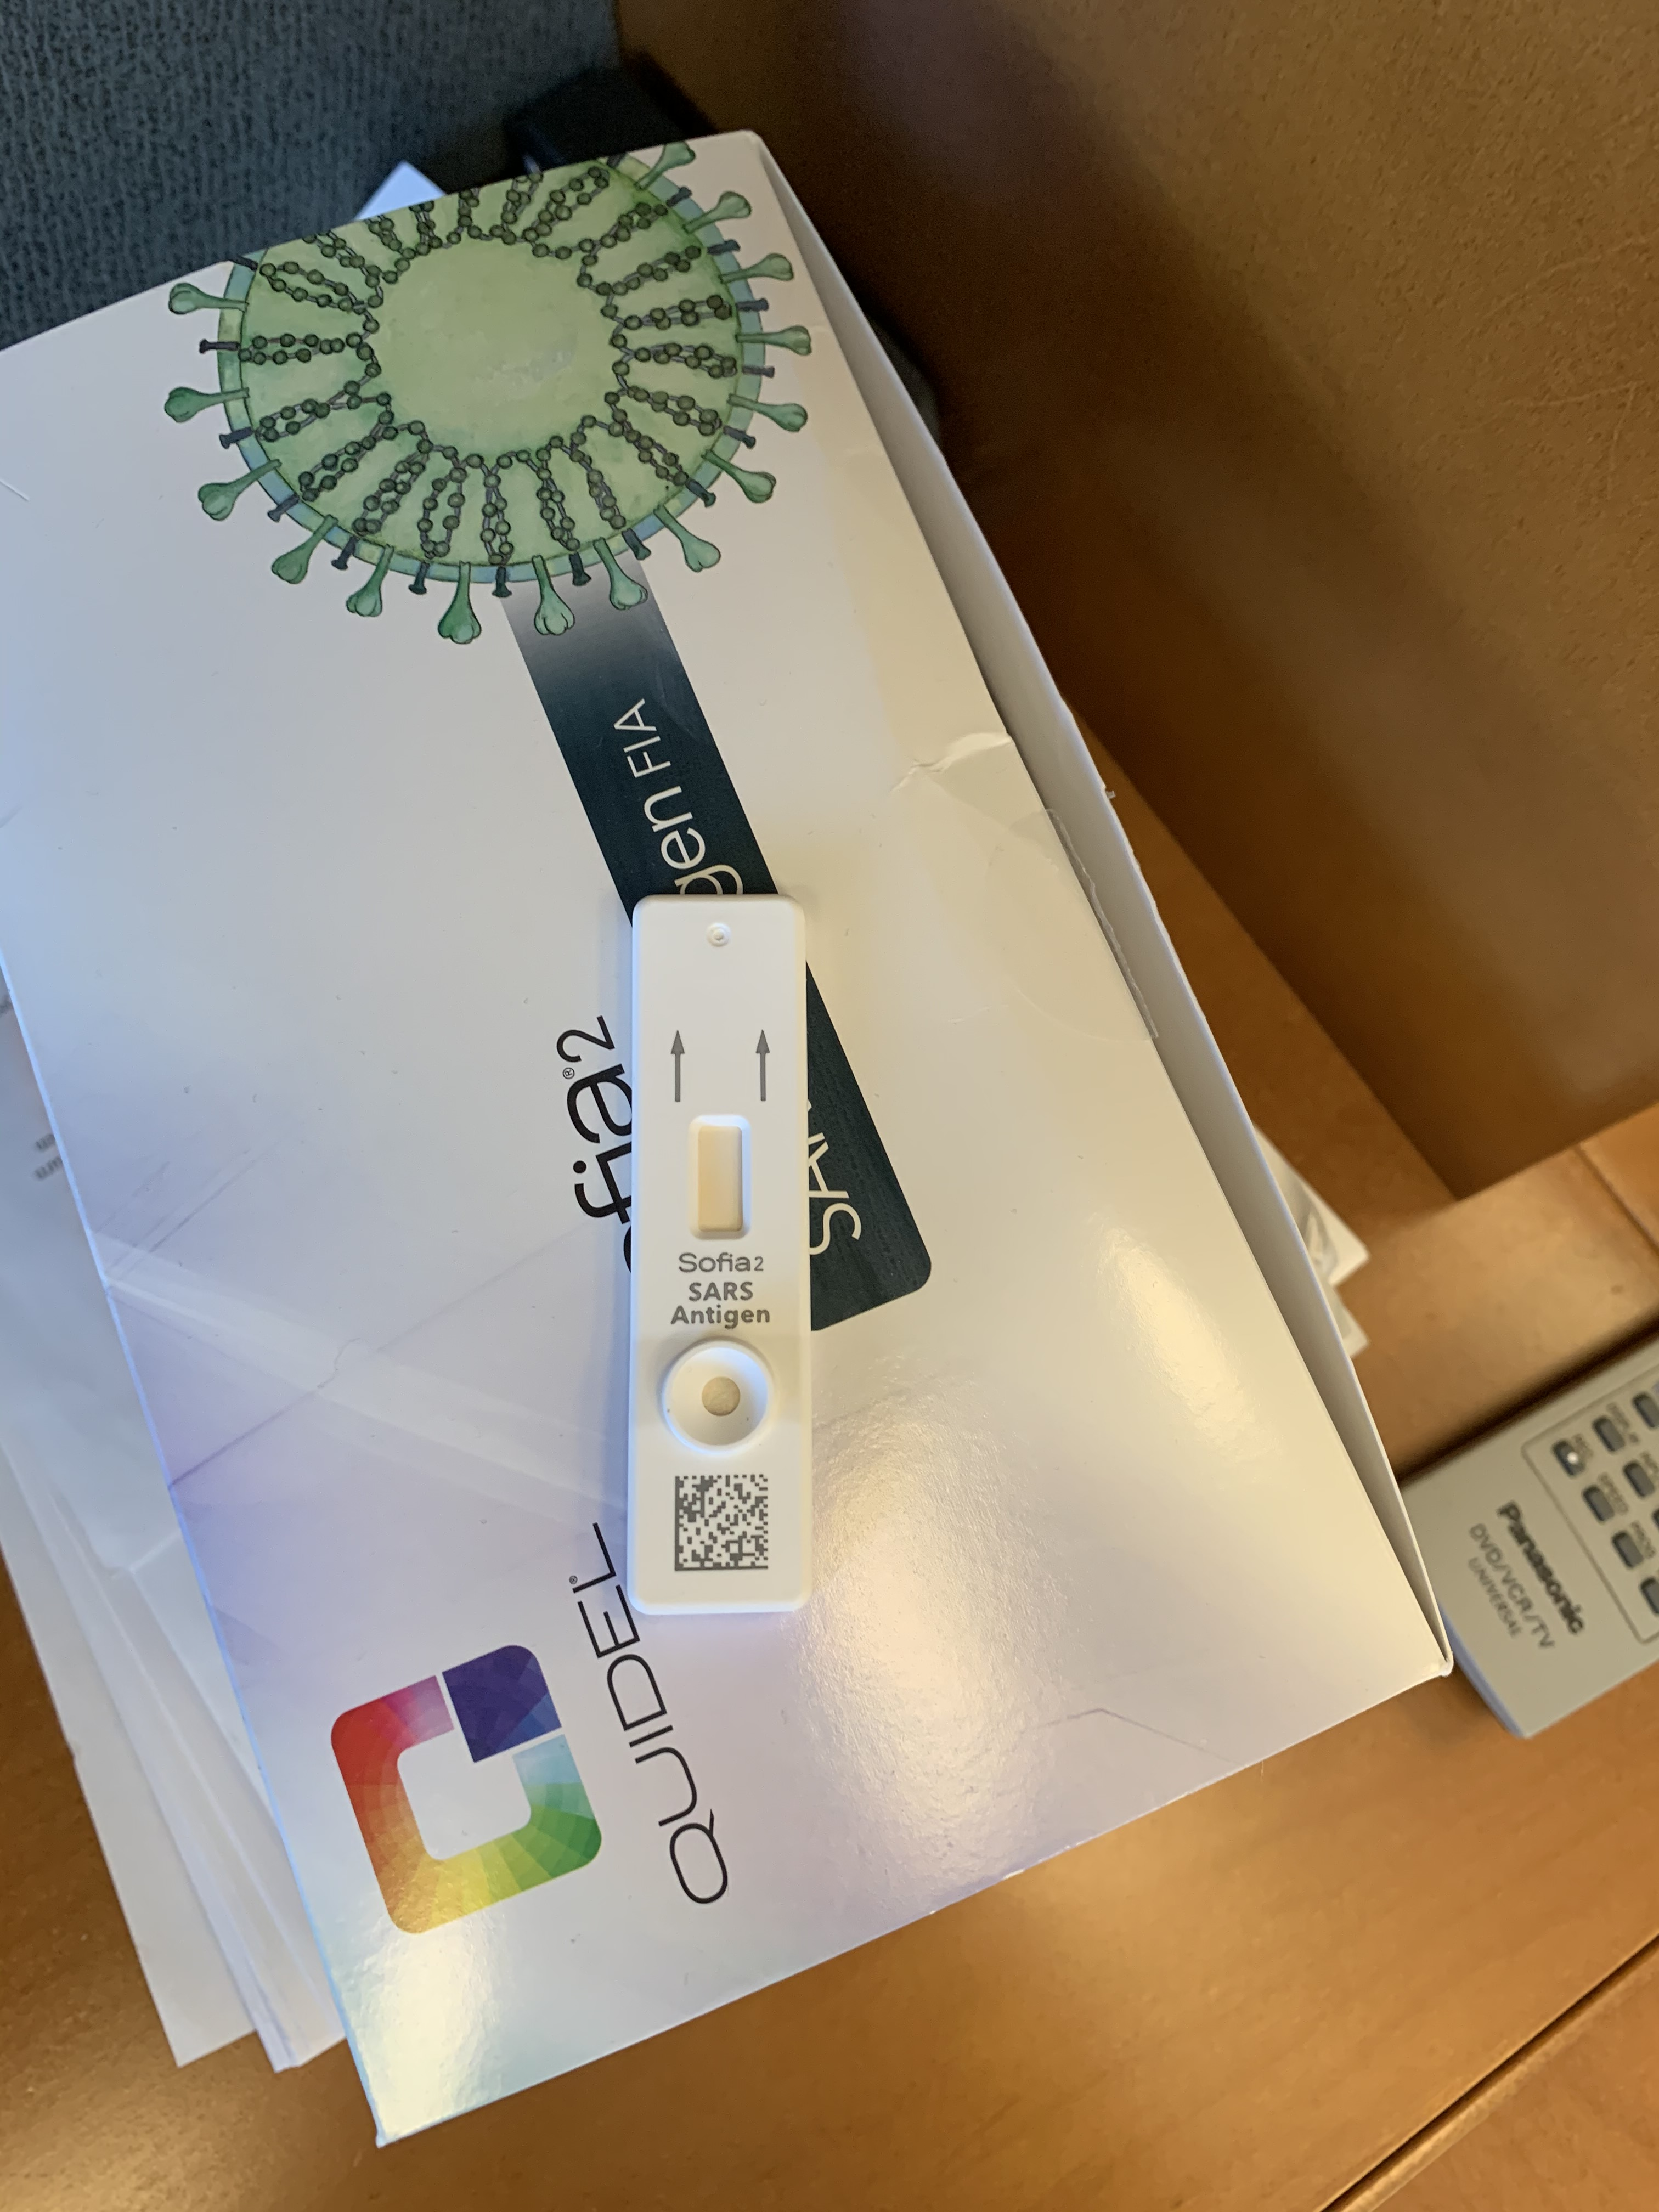quidel: (619, 894, 824, 1620)
